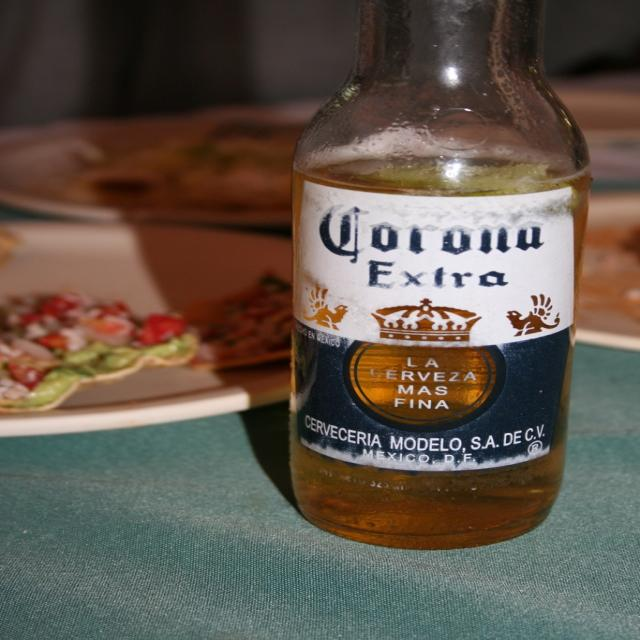corona: (293, 181, 576, 472)
